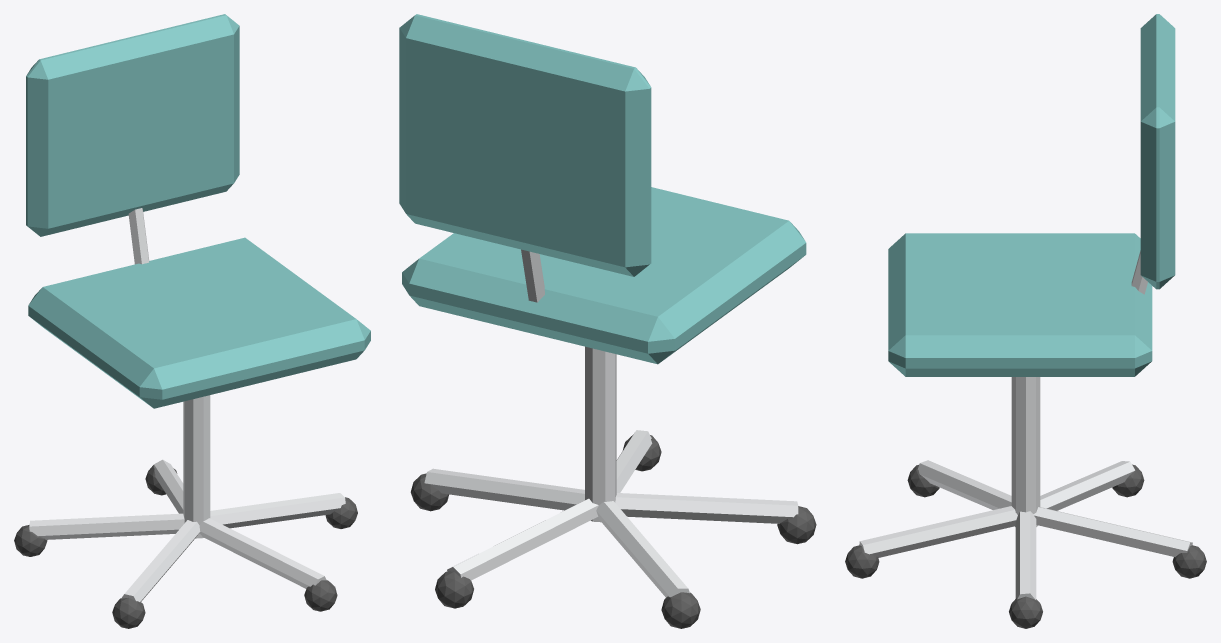
Rendered from office_chair.glb.
The picture shows the model from 3 angles, left to right: view 1: azimuth 30°, elevation 25°; view 2: azimuth 150°, elevation 25°; view 3: azimuth 270°, elevation 25°; orthographic projection. The views are drawn at different scales.
Parts seen in each view (by area): view 1: office_chair_vinyl_t, office_chair_chrome, office_chair_rubber; view 2: office_chair_vinyl_t, office_chair_chrome, office_chair_rubber; view 3: office_chair_vinyl_t, office_chair_chrome, office_chair_rubber.
Boxes of the visible parts, bbox=[...] form: office_chair_vinyl_t: bbox=[26, 14, 370, 408]; office_chair_chrome: bbox=[29, 208, 345, 601]; office_chair_rubber: bbox=[14, 465, 357, 628]; office_chair_vinyl_t: bbox=[399, 14, 806, 364]; office_chair_chrome: bbox=[424, 249, 798, 597]; office_chair_rubber: bbox=[410, 435, 816, 628]; office_chair_vinyl_t: bbox=[888, 14, 1175, 376]; office_chair_chrome: bbox=[859, 250, 1192, 599]; office_chair_rubber: bbox=[845, 464, 1206, 628].
Bounding box in the file's own units: 0.6027 × 0.95 × 0.6306.
